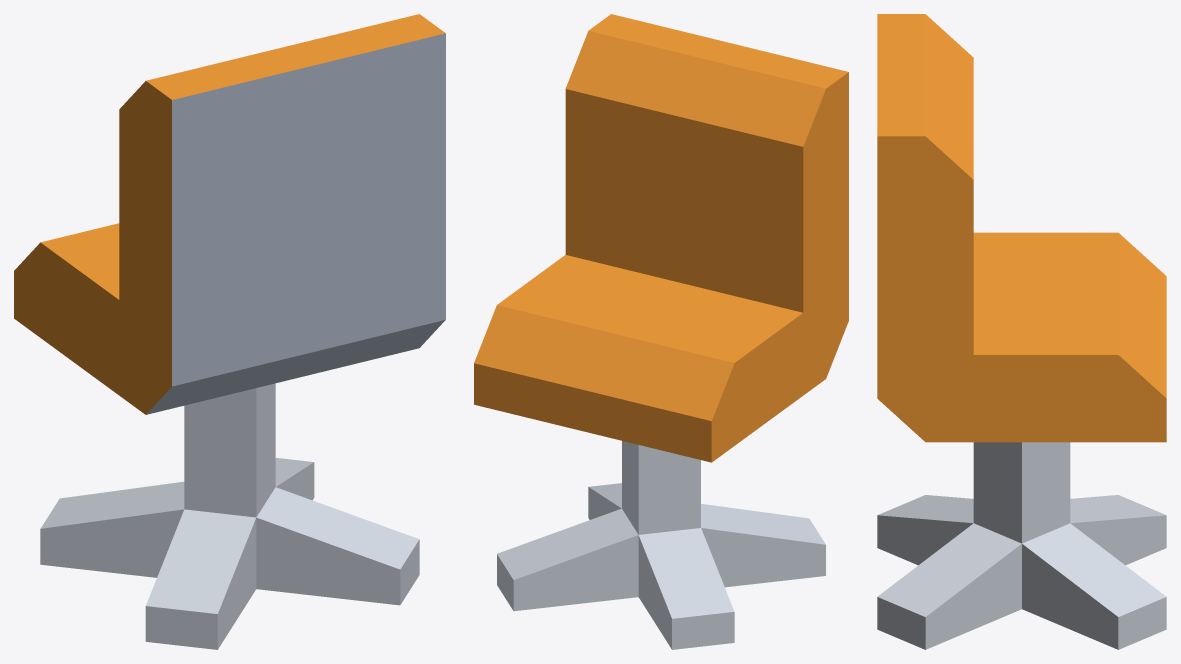
The model's file is desk_chair.obj.
3 renders of one model, left to right at view 1: azimuth 30°, elevation 25°; view 2: azimuth 150°, elevation 25°; view 3: azimuth 270°, elevation 25°, orthographic. The views are drawn at different scales.
Visible parts, largest first — view 1: desk_chair; view 2: desk_chair; view 3: desk_chair.
Part boxes in pixels (left/top/right/bottom): desk_chair: left=14, top=14, right=445, bottom=649; desk_chair: left=474, top=14, right=848, bottom=649; desk_chair: left=877, top=14, right=1166, bottom=649.
Size of the model in its own units: 0.15 by 0.2937 by 0.15.
